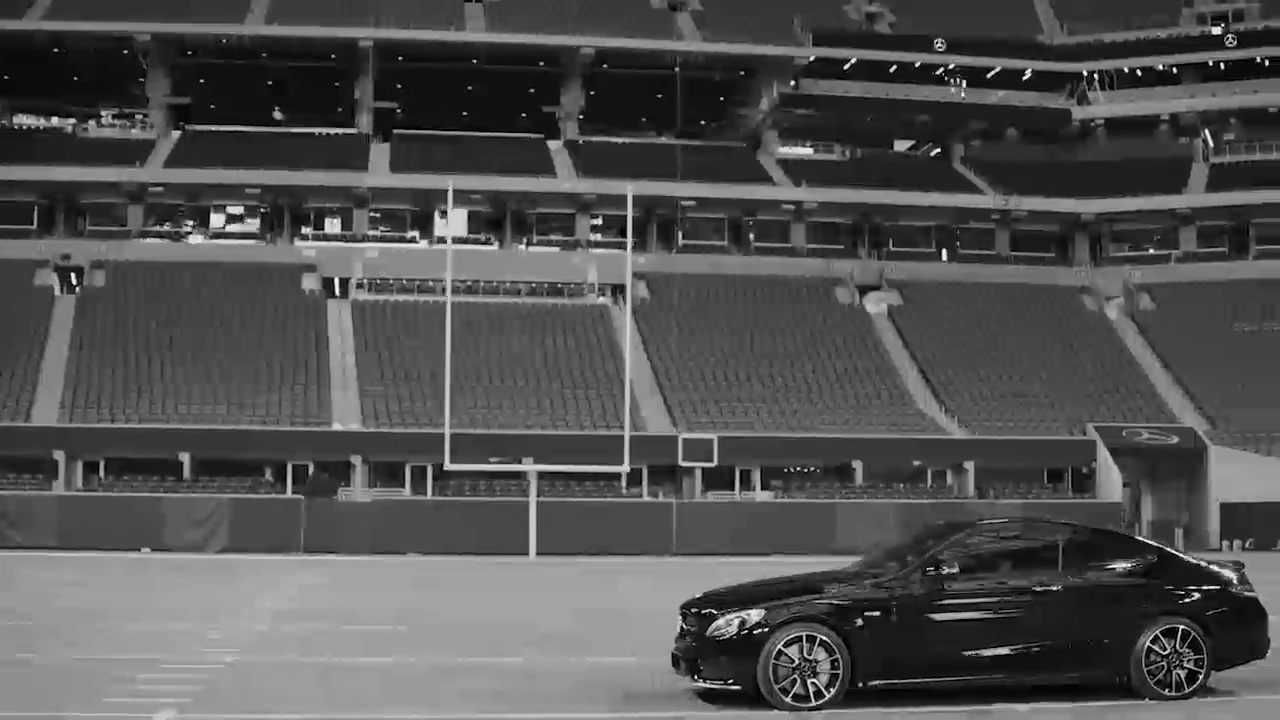car: (667, 511, 1273, 711)
